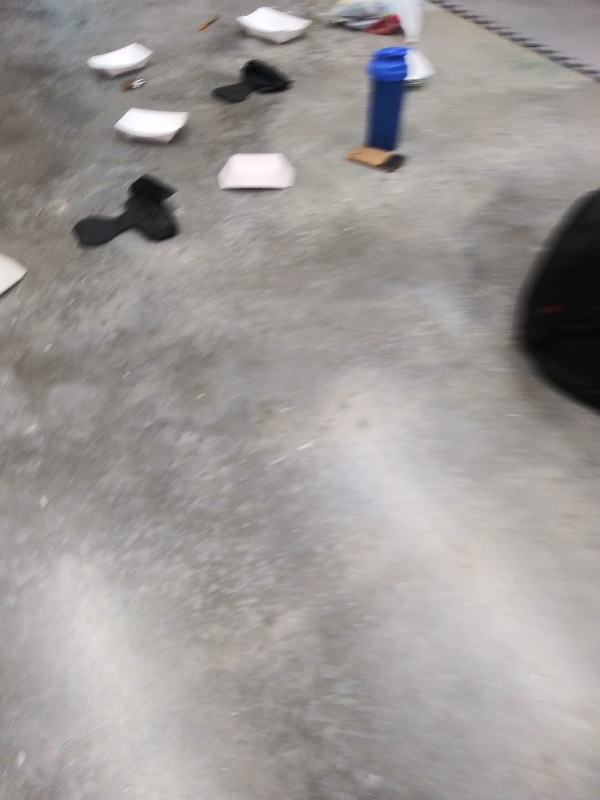plate: (215, 146, 305, 198), (232, 4, 319, 49), (110, 104, 195, 150), (83, 38, 157, 82), (402, 44, 439, 94), (1, 249, 31, 298)
